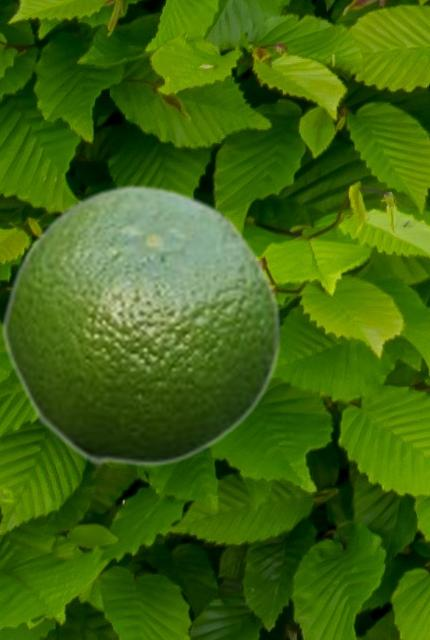calamansi: (0, 182, 281, 466)
